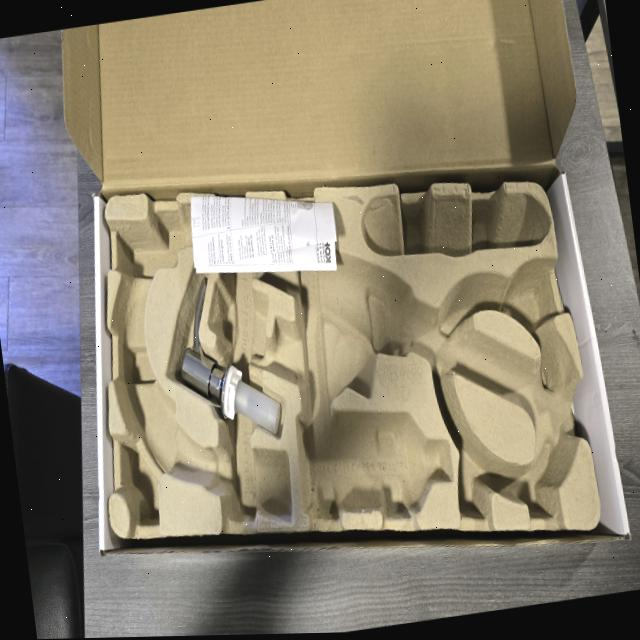1m: (116, 204, 584, 518)
2: (179, 275, 280, 432)
3m: (301, 408, 453, 512)
4m: (362, 192, 550, 257)
5m: (503, 265, 553, 329)
6m: (523, 439, 568, 516)
7m: (459, 434, 494, 514)
8: (190, 192, 337, 273)
